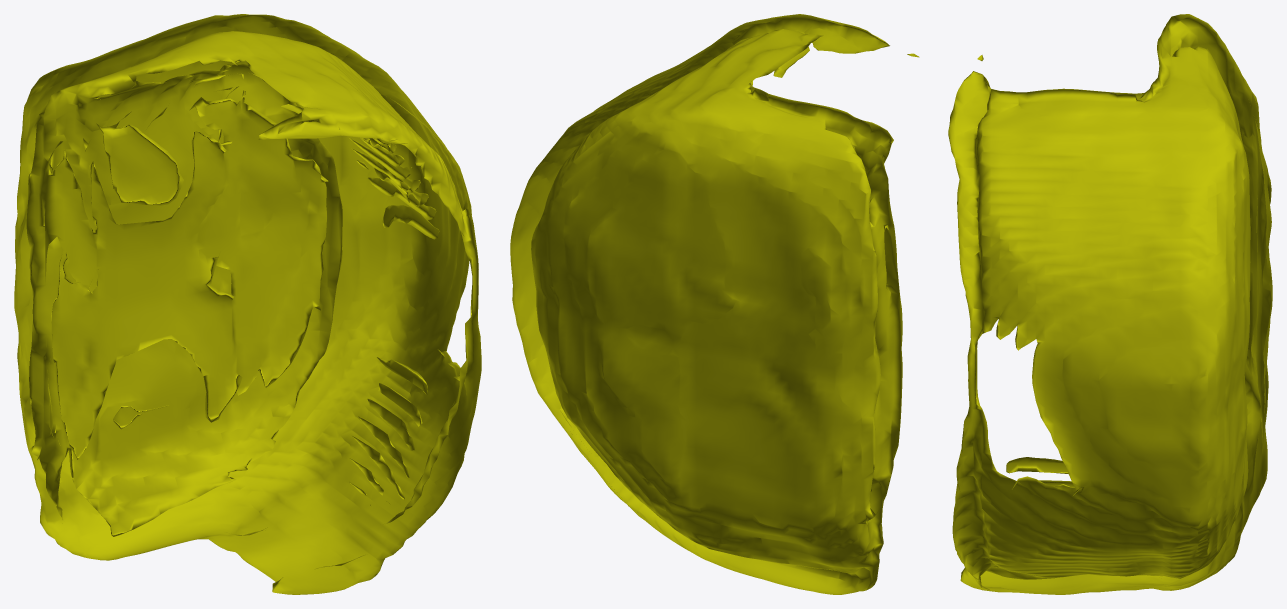
3 renders of one model, left to right at view 1: azimuth 30°, elevation 25°; view 2: azimuth 150°, elevation 25°; view 3: azimuth 270°, elevation 25°, orthographic. The views are drawn at different scales.
Parts seen in each view (by area): view 1: world; view 2: world; view 3: world.
Boxes of the visible parts, x1,y1,x2,y2 form: world: [14, 14, 481, 594]; world: [510, 14, 919, 594]; world: [948, 14, 1272, 594].
Size of the model in its own units: 51.22 by 60.93 by 36.04.
